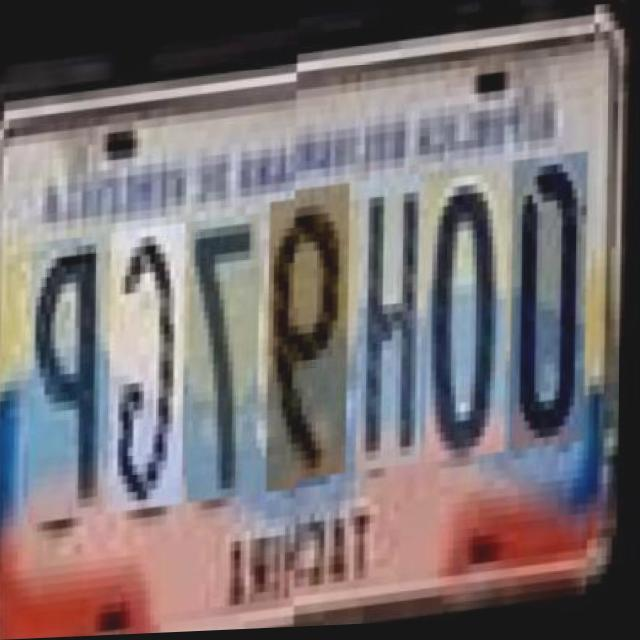0: (510, 155, 588, 453)
7: (188, 199, 262, 487)
9: (266, 181, 350, 479)
g: (108, 207, 187, 495)
h: (356, 173, 425, 469)
o: (426, 163, 509, 462)
p: (29, 216, 107, 504)
